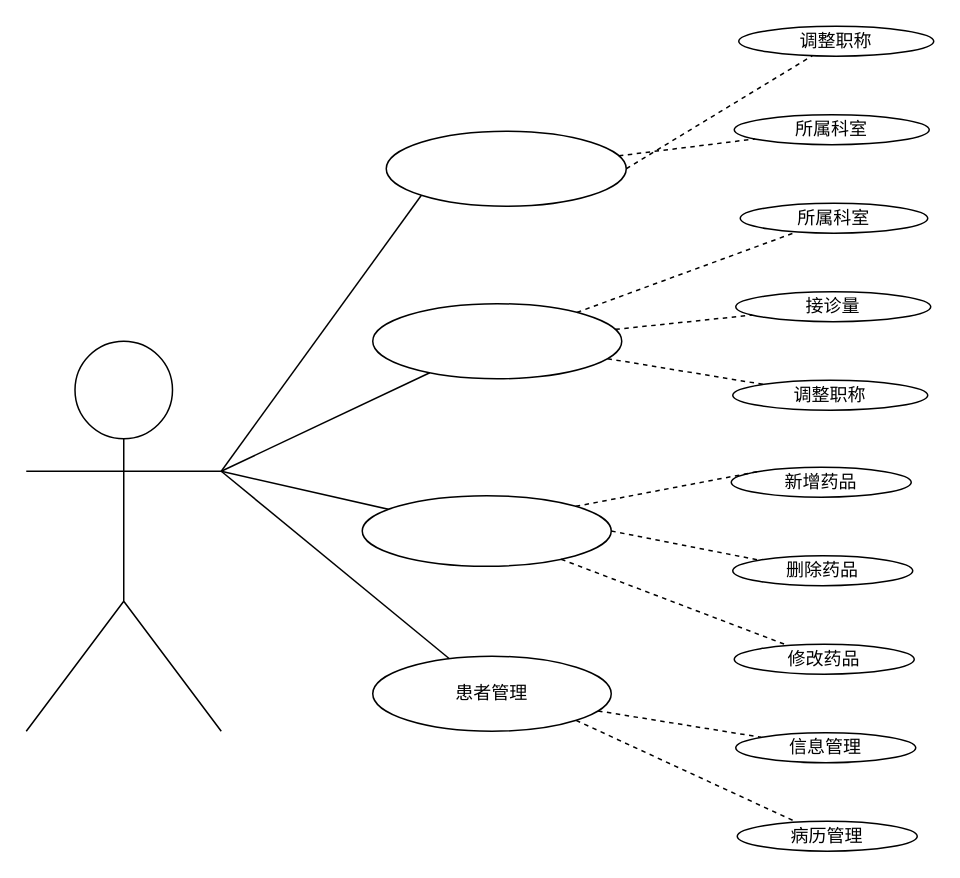
Some shapes in this 960 by 878 pixel diagram are drawn without their labels. Each missing label, with the box of its shape:
医生管理: (371, 302, 622, 379)
后台管理人员: (25, 340, 221, 731)
药剂师管理: (385, 130, 626, 206)
药品管理: (361, 494, 611, 566)
